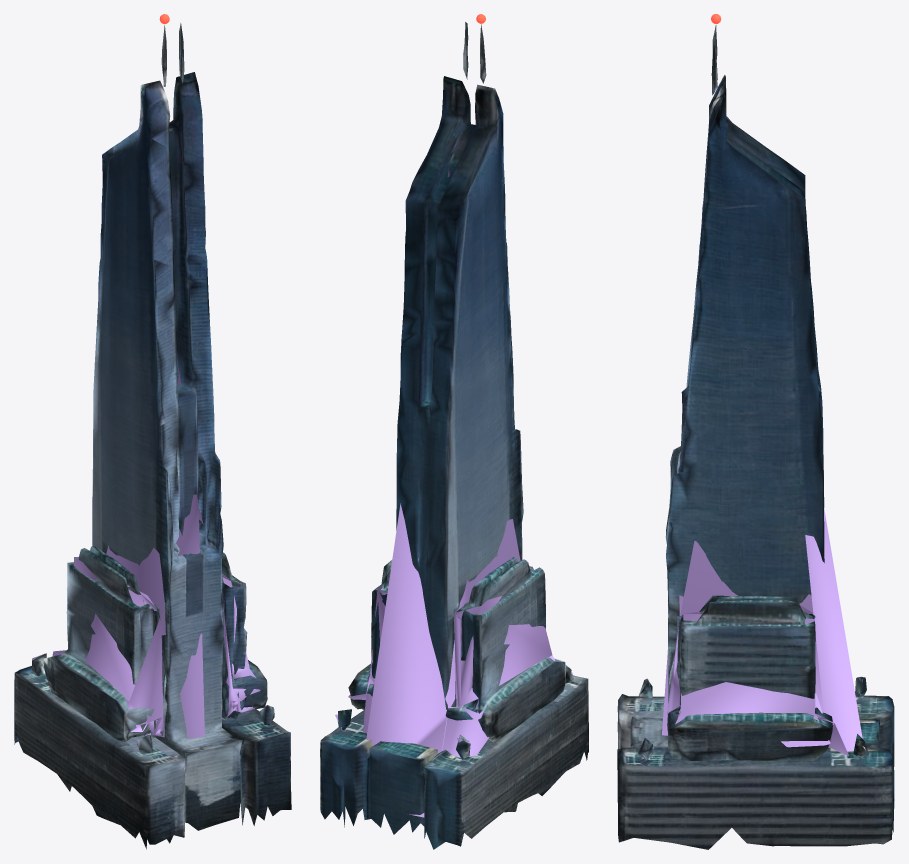
The model's file is sky-violet.glb.
3 renders of one model, left to right at view 1: azimuth 30°, elevation 25°; view 2: azimuth 150°, elevation 25°; view 3: azimuth 270°, elevation 25°, orthographic. The views are drawn at different scales.
Visible parts, largest first — view 1: Body, Accent; view 2: Body, Accent; view 3: Body, Accent.
Part boxes in pixels (box(x1,y1,x2,y2)): Body: box(14, 23, 291, 849); Accent: box(33, 368, 265, 743); Body: box(320, 22, 588, 849); Accent: box(335, 169, 572, 817); Body: box(617, 25, 894, 849); Accent: box(645, 163, 865, 755).
Bounding box in the file's own units: 37.41 × 192 × 60.17.
Materials: 3 (1 with a texture image).
